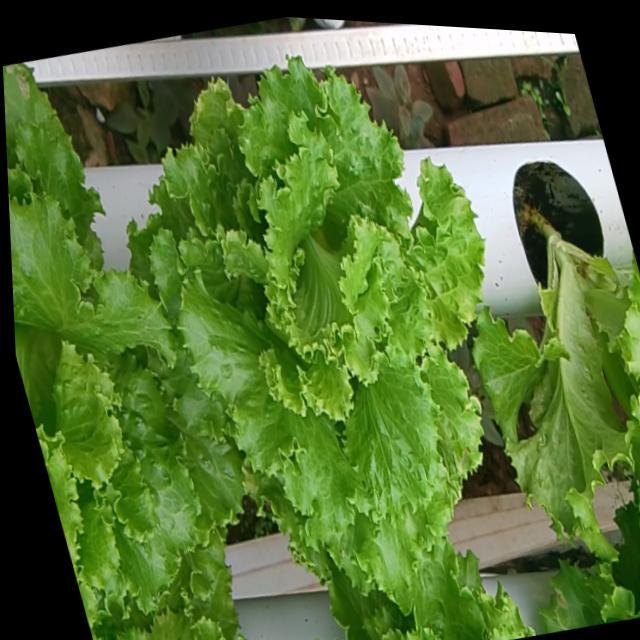Mature: (150, 35, 487, 578), (8, 163, 248, 597)
